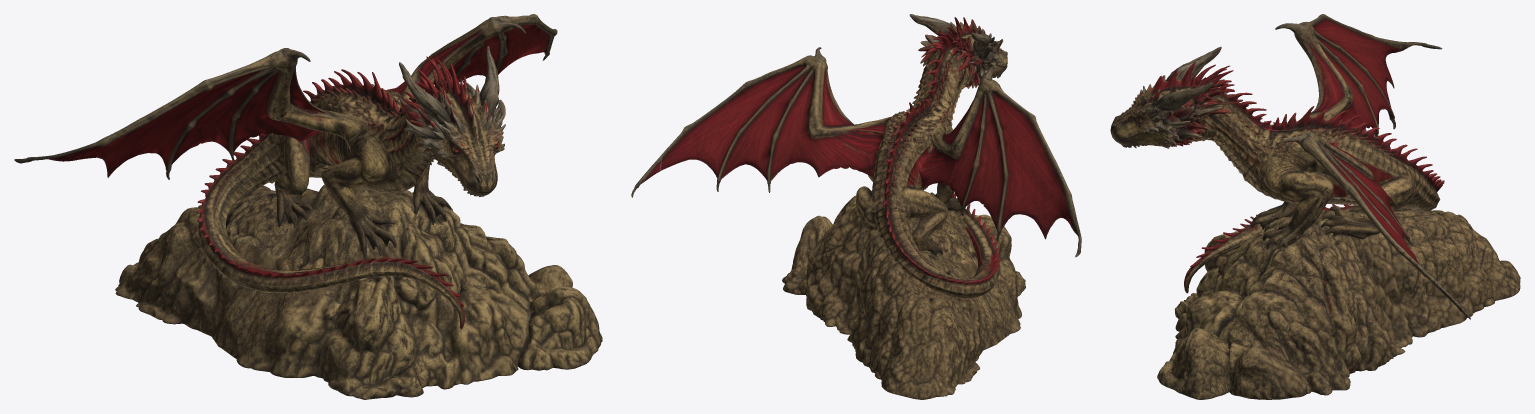
Rendered from dragon.fbx.
3 renders of one model, left to right at view 1: azimuth 30°, elevation 25°; view 2: azimuth 150°, elevation 25°; view 3: azimuth 270°, elevation 25°, orthographic. The views are drawn at different scales.
Parts seen in each view (by area): view 1: Mesh_0; view 2: Mesh_0; view 3: Mesh_0.
Boxes of the visible parts, x1,y1,x2,y2 form: Mesh_0: (14,14,602,399); Mesh_0: (631,14,1081,399); Mesh_0: (1110,14,1520,399).
Bounding box in the file's own units: 190 × 104 × 142.
1 material, 1 textured.
